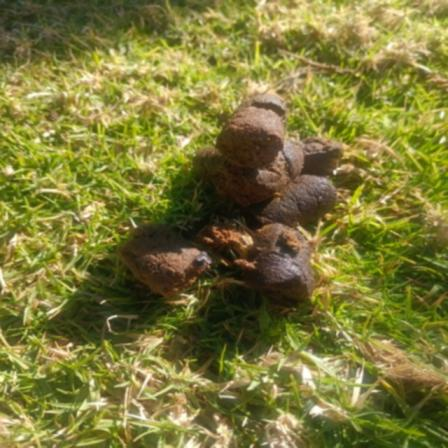dog-poop: (128, 94, 352, 318)
